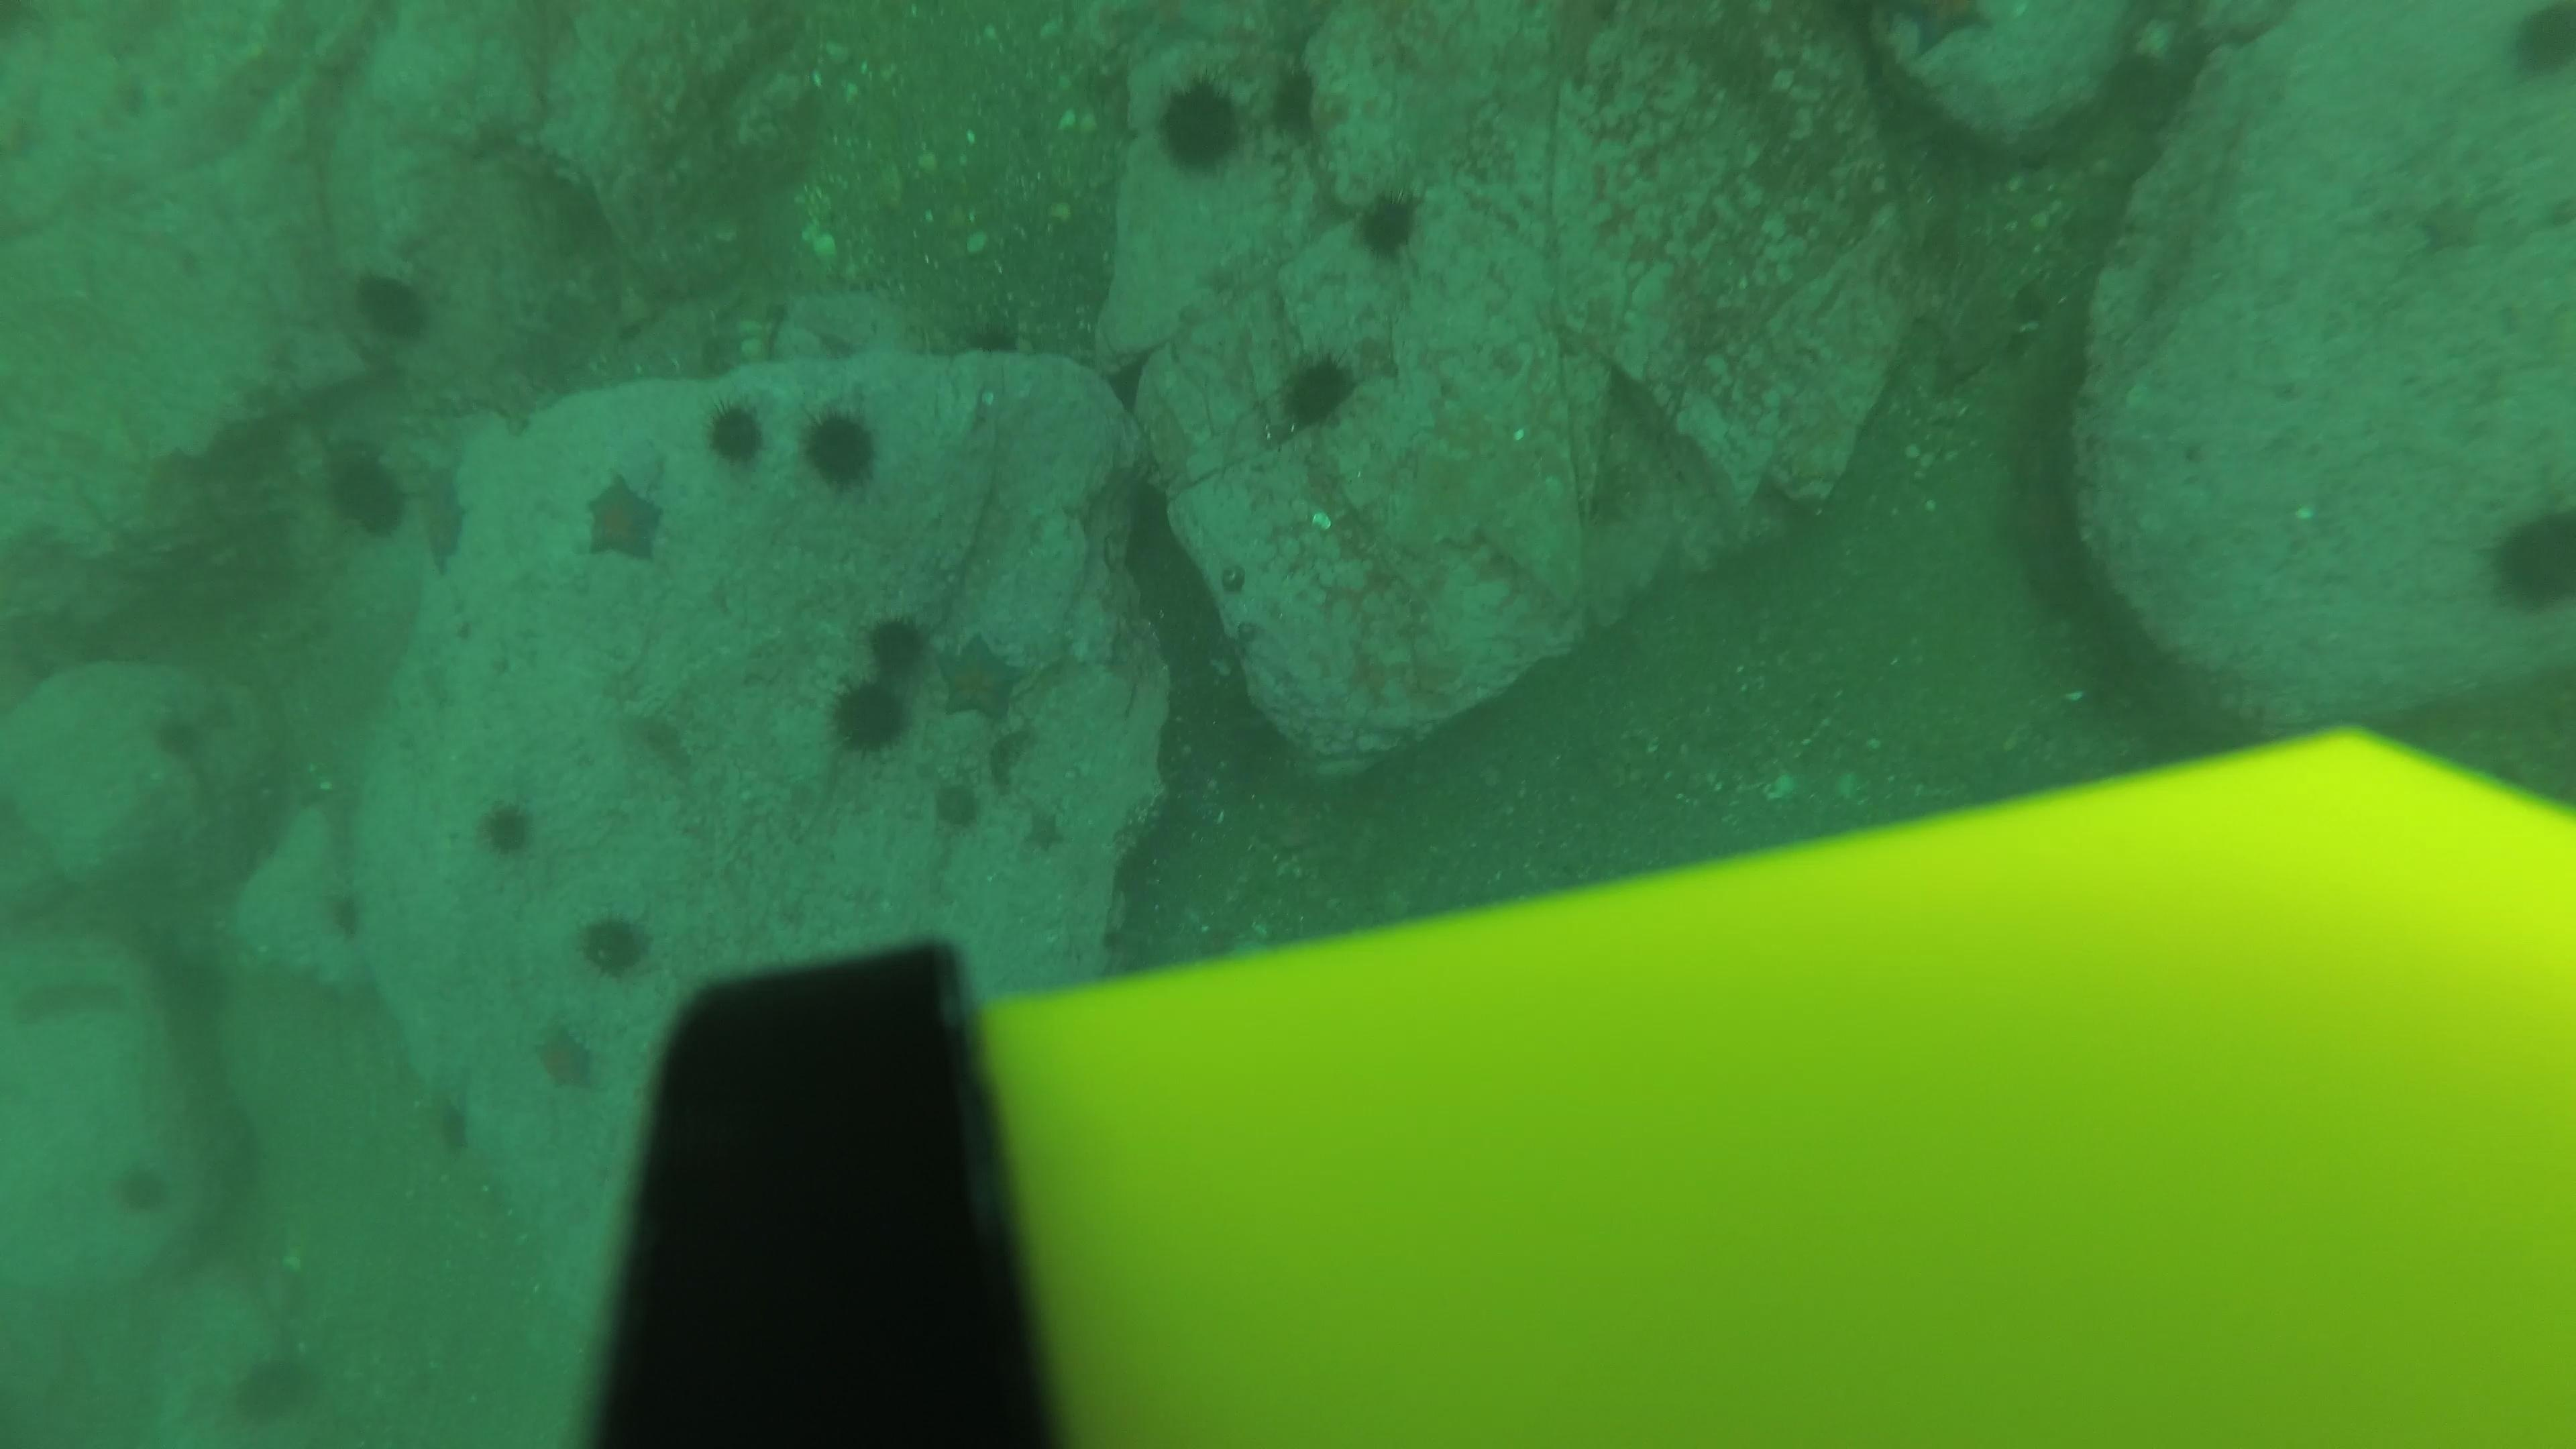echinus: (2480, 495, 2574, 616), (1150, 73, 1253, 177), (0, 966, 129, 1040), (320, 439, 412, 541), (225, 1343, 327, 1430), (1267, 347, 1364, 435), (798, 403, 885, 490), (347, 264, 437, 345), (826, 672, 913, 755), (1346, 182, 1430, 264), (2500, 2, 2576, 83), (858, 610, 934, 690), (575, 906, 653, 978), (699, 396, 770, 469), (1270, 64, 1332, 145), (472, 793, 541, 860), (108, 1155, 175, 1219), (147, 702, 214, 764), (425, 1088, 476, 1159), (929, 775, 985, 835), (954, 320, 1028, 364), (322, 885, 370, 941)
holothurian: (835, 249, 909, 292)
starfish: (932, 630, 1026, 725), (575, 472, 669, 566), (1111, 0, 1258, 57), (412, 464, 472, 571), (1884, 0, 1997, 57), (2410, 189, 2489, 258), (525, 1028, 596, 1099), (1019, 803, 1069, 855)
